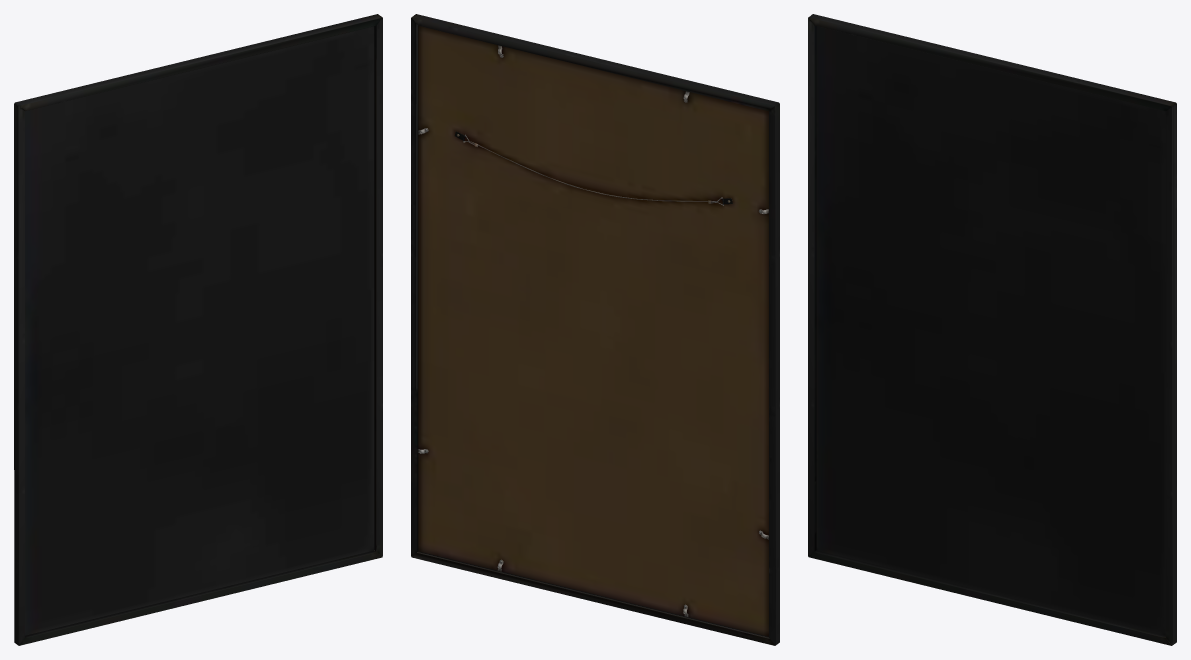
Rendered from hanging_picture_frame_01.1519b107.glb.
3 views of the same model, side by side, from view 1: azimuth 30°, elevation 25°; view 2: azimuth 150°, elevation 25°; view 3: azimuth 330°, elevation 25° (orthographic).
Parts seen in each view (by area): view 1: hanging_picture_frame_01; view 2: hanging_picture_frame_01; view 3: hanging_picture_frame_01.
Boxes of the visible parts, left/top/right/bottom form: hanging_picture_frame_01: left=14, top=14, right=382, bottom=645; hanging_picture_frame_01: left=411, top=14, right=779, bottom=645; hanging_picture_frame_01: left=808, top=14, right=1176, bottom=645.
Size of the model in its own units: 0.594 by 0.841 by 0.0154.
3 materials, 3 textured.
